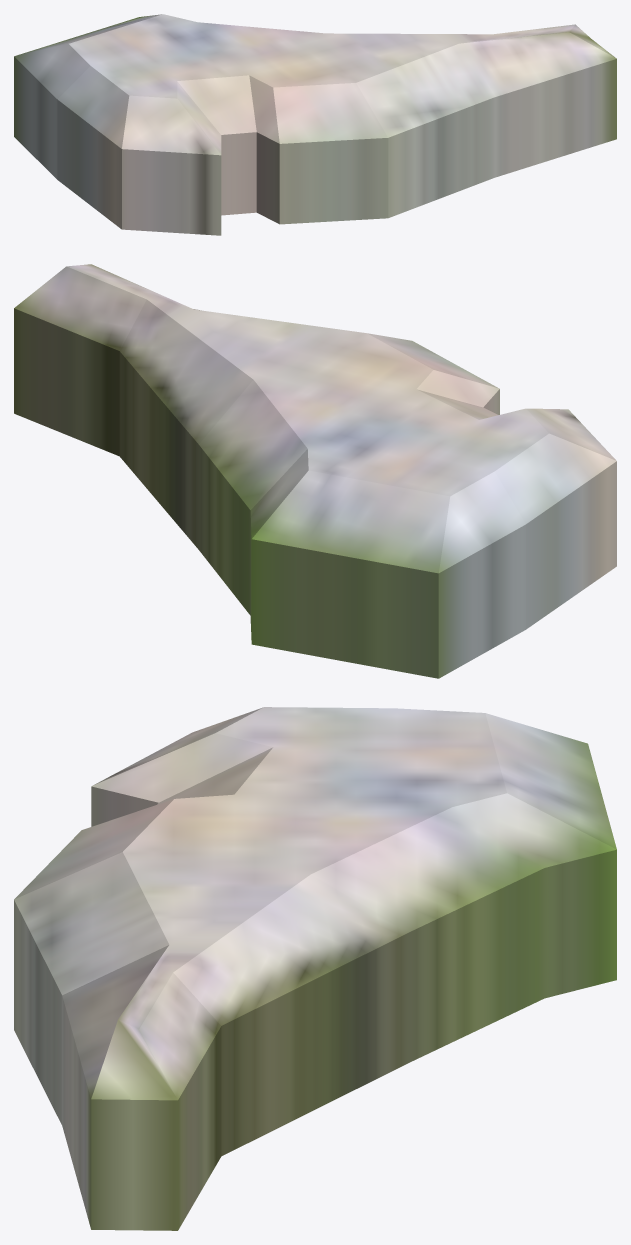
The model's file is stone.33.fbx.
3 views of the same model, one above another, from view 1: azimuth 30°, elevation 25°; view 2: azimuth 150°, elevation 25°; view 3: azimuth 270°, elevation 25° (orthographic). The views are drawn at different scales.
Parts seen in each view (by area): view 1: stone.33; view 2: stone.33; view 3: stone.33.
Part boxes in pixels (<box>): stone.33: <box>14,14,616,235</box>; stone.33: <box>14,264,616,678</box>; stone.33: <box>14,707,616,1230</box>.
Size of the model in its own units: 42.87 by 9.74 by 29.69.
1 material, 1 textured.
